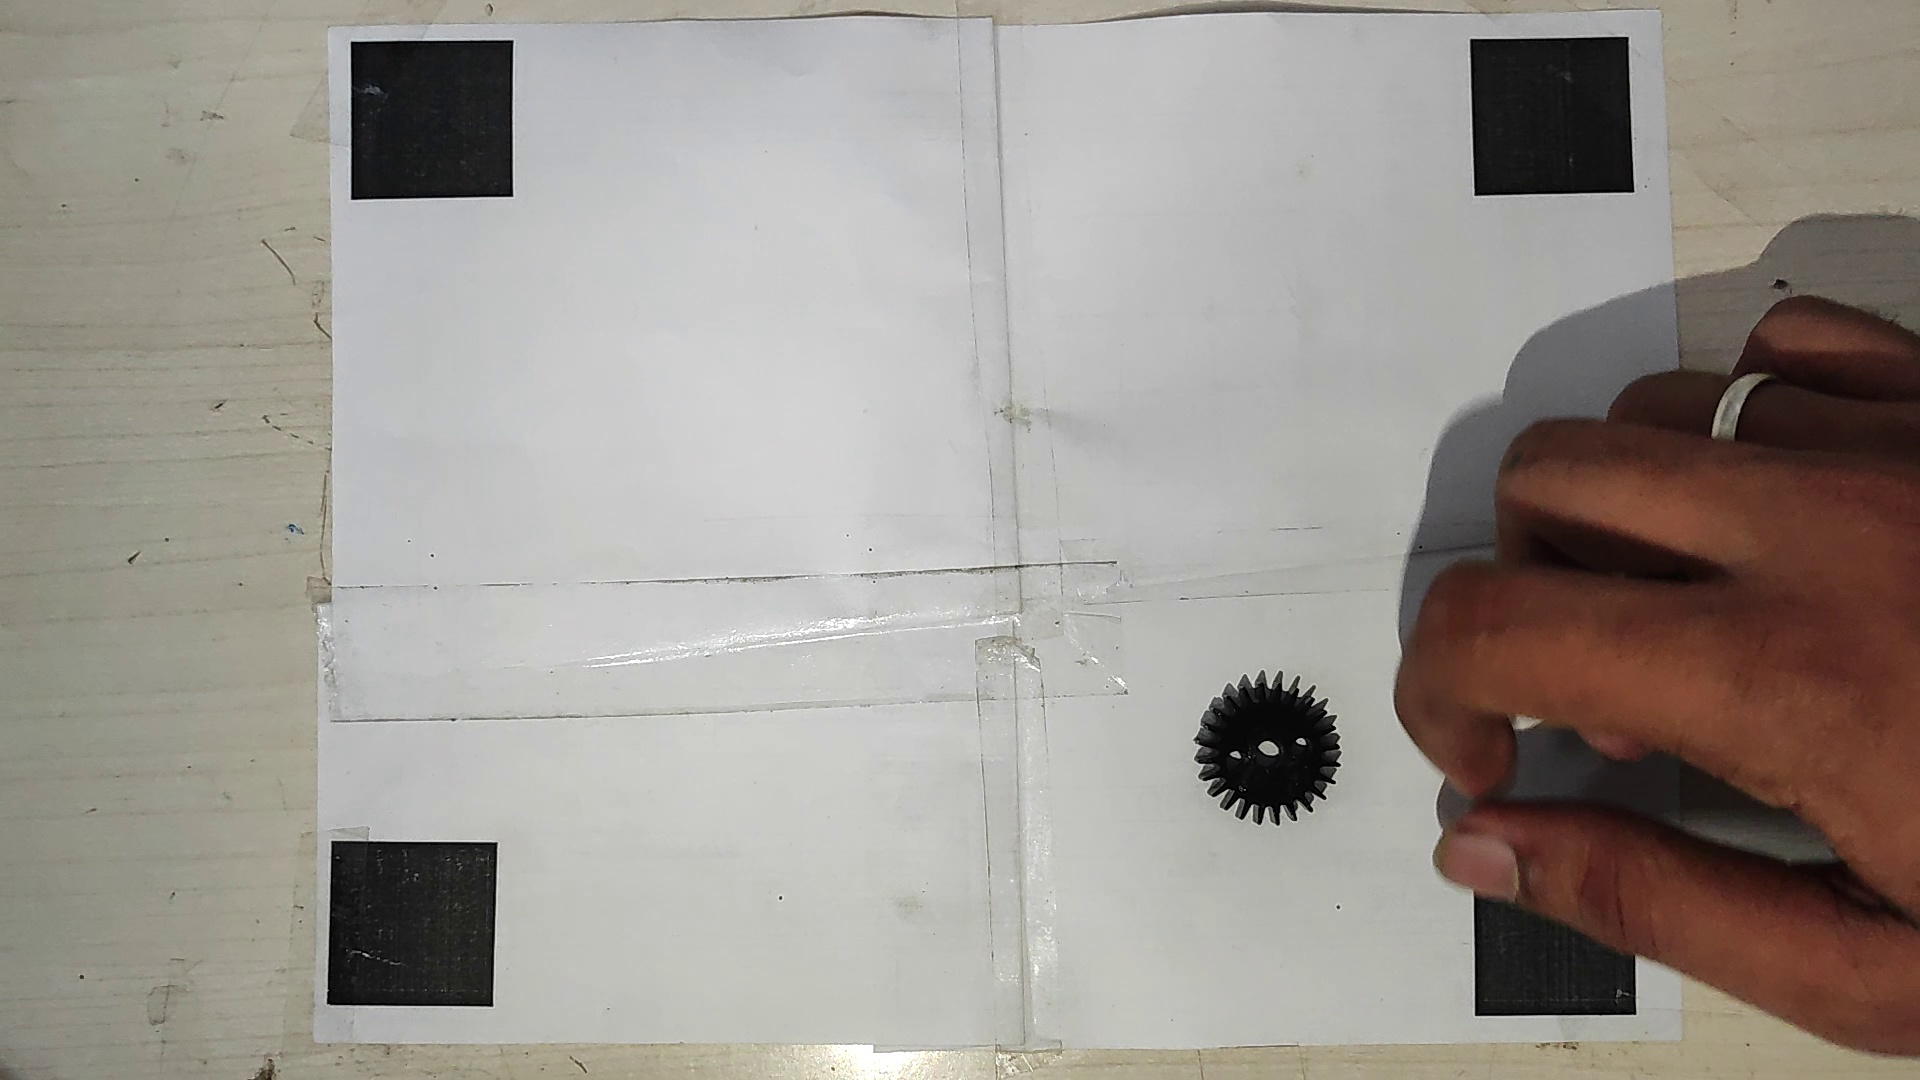Gear: (1184, 667, 1340, 818)
